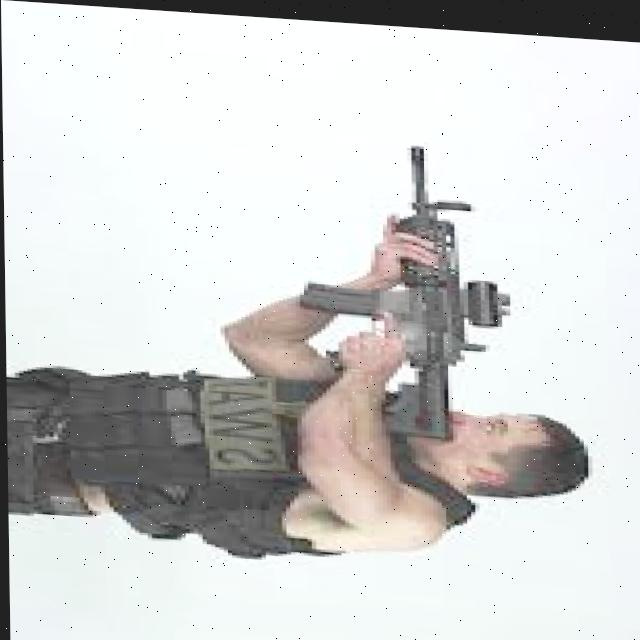firearm: (289, 133, 507, 442)
